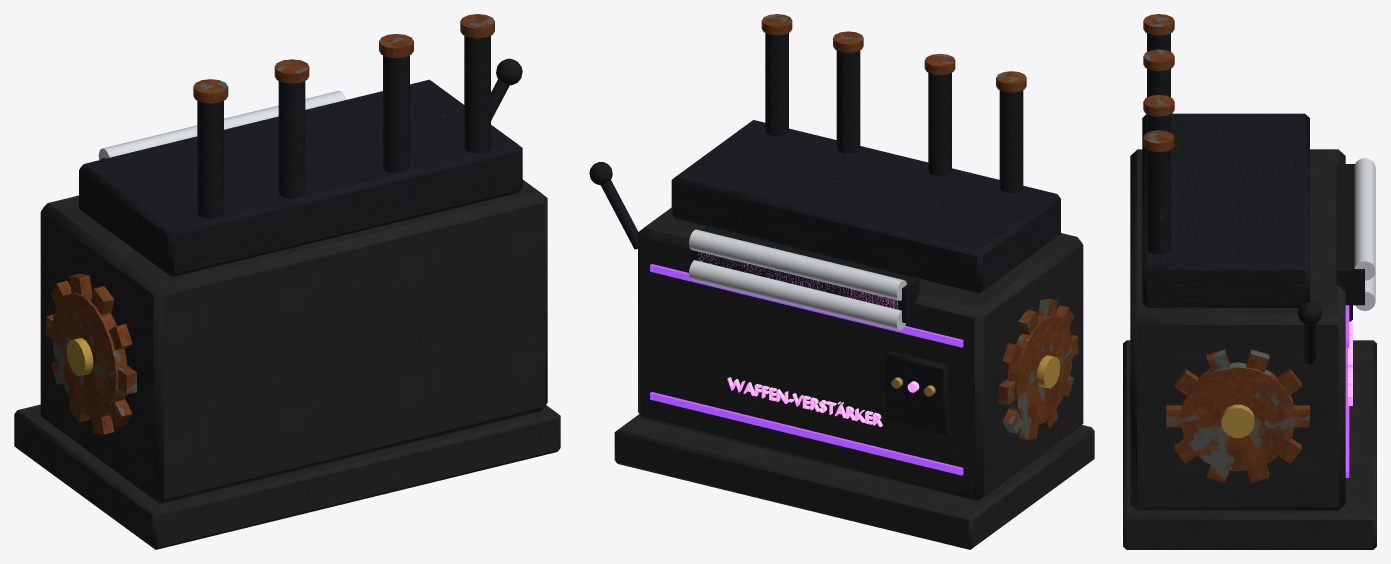
Rendered from pap.gltf.
3 renders of one model, left to right at view 1: azimuth 30°, elevation 25°; view 2: azimuth 150°, elevation 25°; view 3: azimuth 270°, elevation 25°, orthographic. The views are drawn at different scales.
Parts seen in each view (by area): view 1: PackAPunch; view 2: PackAPunch, PaPName; view 3: PackAPunch, PaPName.
Part boxes in pixels (x1,y1,x2,y2): PackAPunch: (14,14,560,549); PackAPunch: (589,14,1094,549); PaPName: (727,377,882,426); PackAPunch: (1123,14,1376,549); PaPName: (1348,322,1352,405).
Size of the model in its own units: 2.09 by 1.78 by 1.06.
Materials: 8 (3 with a texture image).
